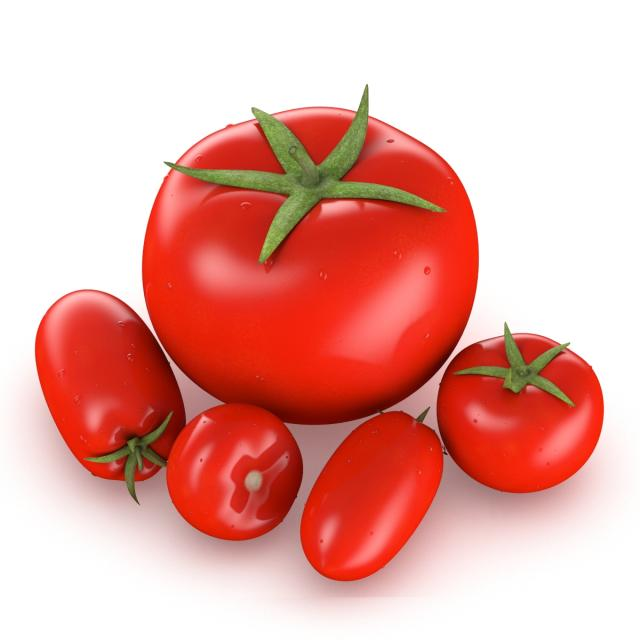Tomato: (132, 84, 483, 428), (38, 287, 184, 509), (293, 396, 445, 590), (434, 327, 608, 492), (167, 402, 310, 547)
